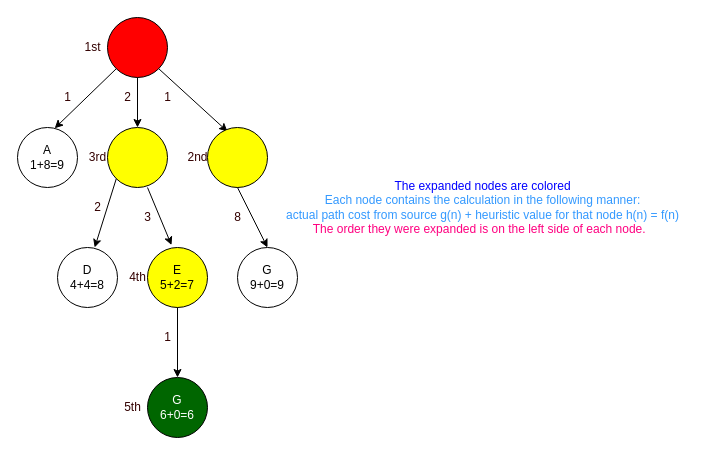
Image size: 705x455. Some labels were removed from this diagram. Each missing label, with the box of its shape:
B 2+5=7: (106, 126, 168, 188)
C 1+5=6: (206, 126, 268, 188)
S 0+10=10: (106, 16, 168, 78)
